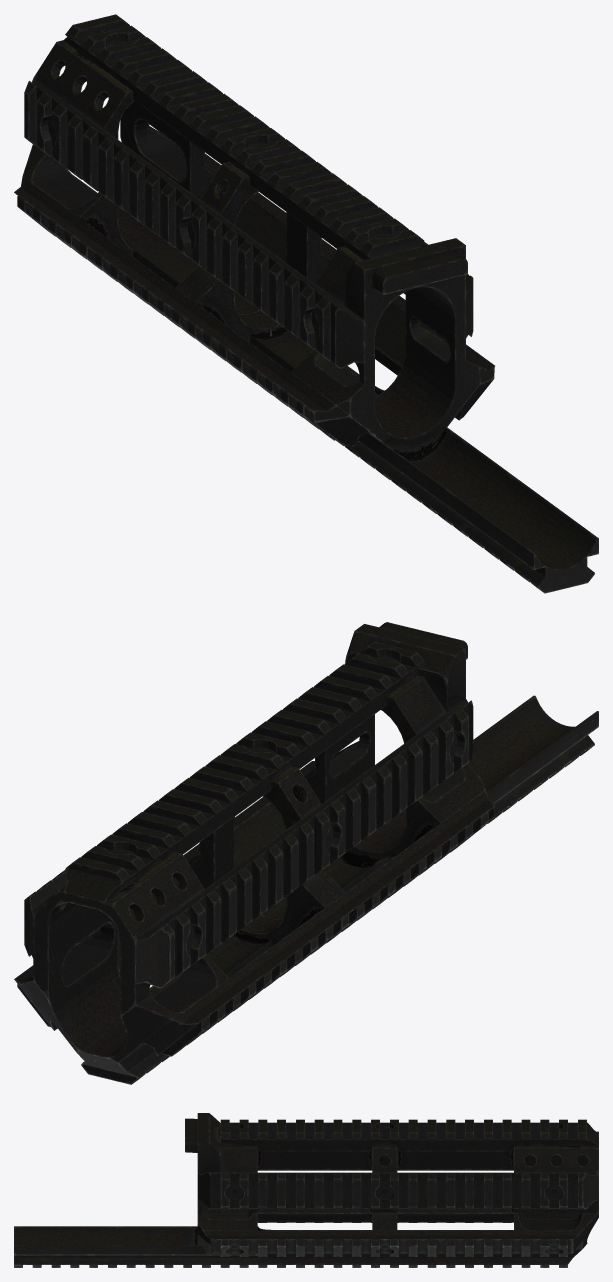
The picture shows the model from 3 angles, top to bottom: view 1: azimuth 30°, elevation 25°; view 2: azimuth 150°, elevation 25°; view 3: azimuth 270°, elevation 25°; orthographic projection. The views are drawn at different scales.
Parts seen in each view (by area): view 1: TW_5f63418ef5750b524b45f116_PZ_Import; view 2: TW_5f63418ef5750b524b45f116_PZ_Import; view 3: TW_5f63418ef5750b524b45f116_PZ_Import.
Boxes of the visible parts, x1,y1,x2,y2 form: TW_5f63418ef5750b524b45f116_PZ_Import: (14,14,598,593); TW_5f63418ef5750b524b45f116_PZ_Import: (14,622,598,1084); TW_5f63418ef5750b524b45f116_PZ_Import: (14,1113,598,1267).
Size of the model in its own units: 0.0398 by 0.1797 by 0.0459.
Materials: 1 (1 with a texture image).
